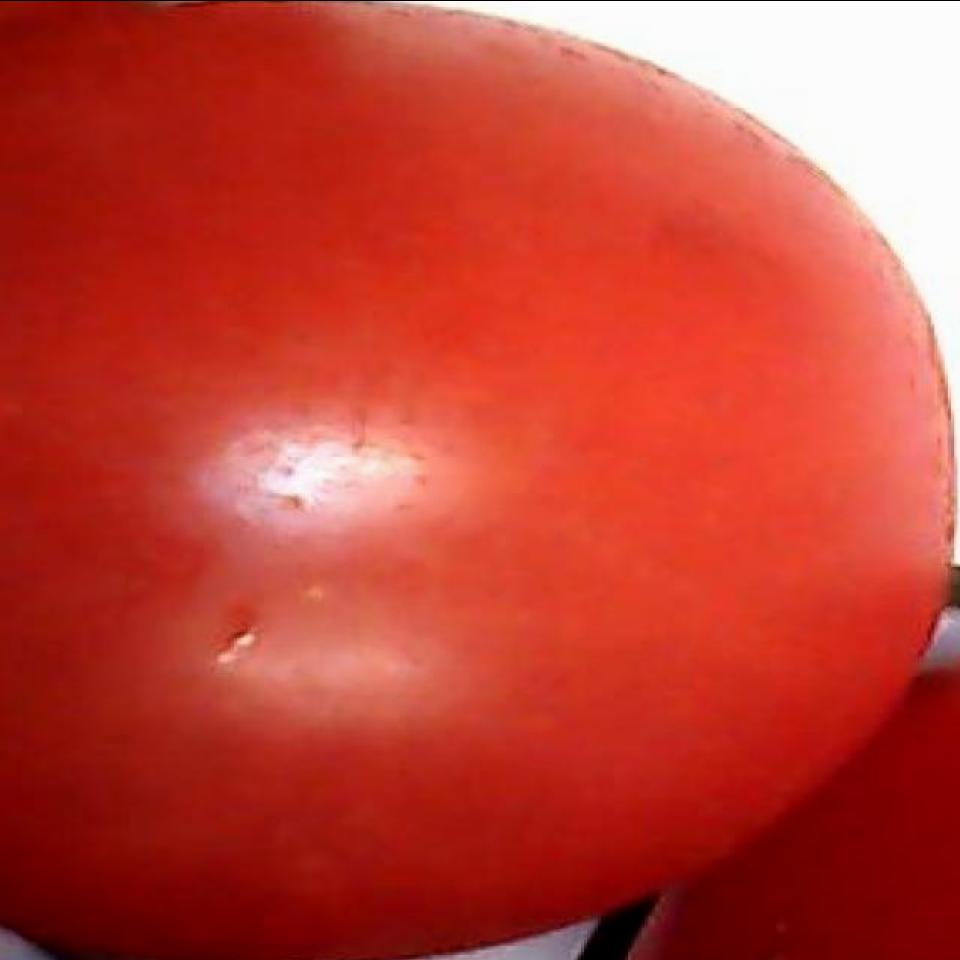Healthy: (0, 0, 960, 923)
